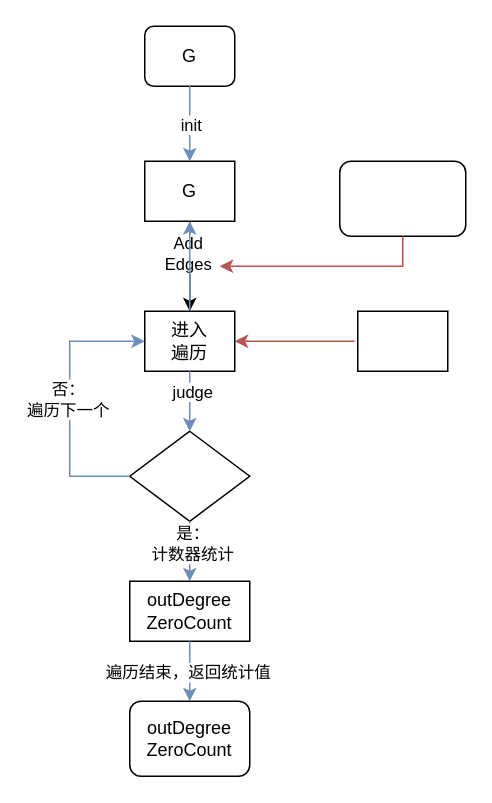
Image size: 492x803. Some labels were removed from this diagram. Here are the shapes that lost their labels. From the top down, the box of each, then its label:
(338, 160, 466, 236): edges
(356, 310, 448, 371): G-> vertexNum
(128, 430, 250, 521): 后缀link 是否为空
